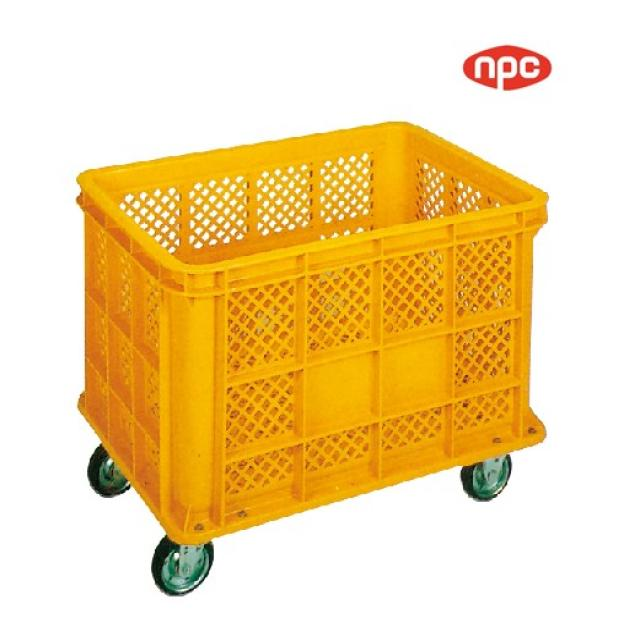basket: (56, 111, 582, 603)
